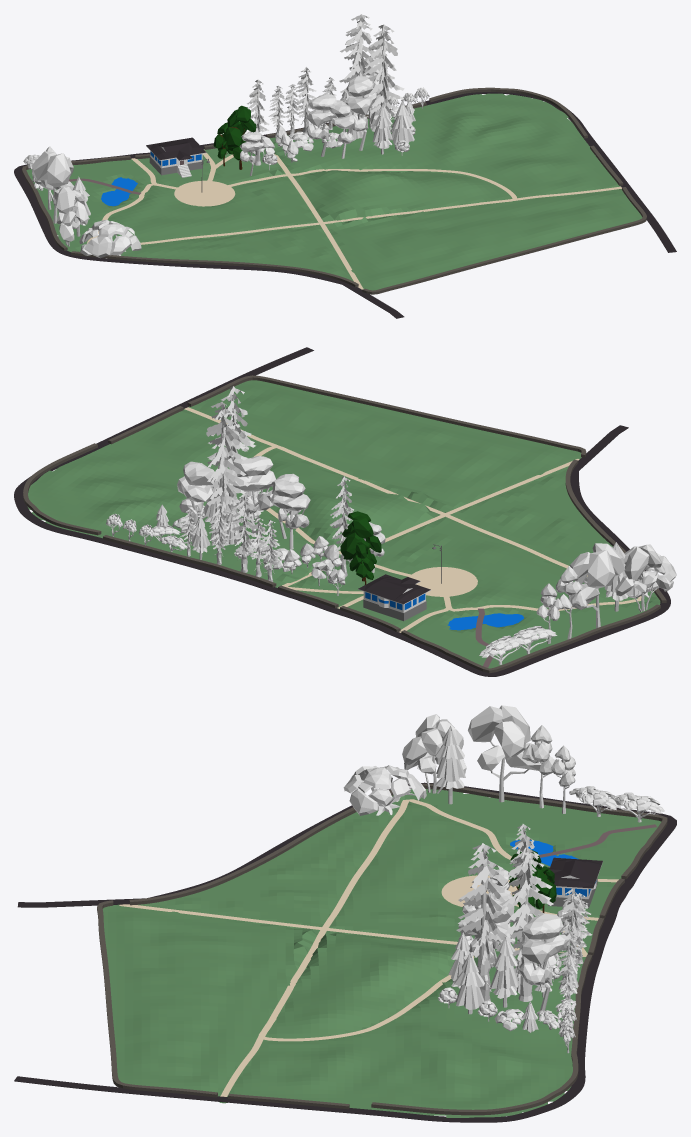
Rendered from camping.fbx.
The picture shows the model from 3 angles, top to bottom: view 1: azimuth 30°, elevation 25°; view 2: azimuth 150°, elevation 25°; view 3: azimuth 270°, elevation 25°; orthographic projection. The views are drawn at different scales.
Parts seen in each view (by area): view 1: ground, sidewpath, 01path, Tree Type0 03 Model.006, cafe-playa, Tree Type0 01 Model.003, 07wall, Tree Type4 03 Model.001, Tree Type5 04 Model, Tree Type0 03 Model.007, 06wall, plaza (+13 smaller); view 2: ground, sidewpath, Tree Type0 03 Model.007, 07wall, cafe-playa, Tree Type4 03 Model.001, 01path, Tree Type5 04 Model, Tree Type3 05 Model.002, 05wall, Tree Type3 05 Model.004, plaza (+19 smaller); view 3: ground, sidewpath, Tree Type0 03 Model.006, Tree Type4 03 Model.001, 01path, Tree Type0 01 Model.003, Tree Type0 03 Model.007, Tree Type3 05 Model.004, Tree Type5 04 Model, cafe-playa, 07wall, 05wall (+14 smaller).
Boxes of the visible parts, x1,y1,x2,y2 form: ground: (26,93,642,290); sidewpath: (14,92,676,318); 01path: (87,169,517,244); Tree Type0 03 Model.006: (363,24,404,148); cafe-playa: (146,137,206,177); Tree Type0 01 Model.003: (79,219,141,258); 07wall: (362,187,646,294); Tree Type4 03 Model.001: (32,151,74,223); Tree Type5 04 Model: (53,186,88,246); Tree Type0 03 Model.007: (339,14,378,138); 06wall: (71,251,358,287); plaza: (174,180,235,206); ground: (27,380,660,668); sidewpath: (14,347,670,676); Tree Type0 03 Model.007: (206,401,250,545); 07wall: (187,375,586,457); cafe-playa: (358,574,430,621); Tree Type4 03 Model.001: (570,543,625,628); 01path: (254,445,641,611); Tree Type5 04 Model: (615,544,670,611); Tree Type3 05 Model.002: (228,456,275,536); 05wall: (401,604,660,673); Tree Type3 05 Model.004: (177,461,214,538); plaza: (409,567,477,596); ground: (103,789,661,1117); sidewpath: (14,782,676,1122); Tree Type0 03 Model.006: (456,843,513,1006); Tree Type4 03 Model.001: (468,705,540,802); 01path: (258,799,511,1041); Tree Type0 01 Model.003: (343,765,426,815); Tree Type0 03 Model.007: (500,839,553,1001); Tree Type3 05 Model.004: (518,913,569,1010); Tree Type5 04 Model: (402,714,466,793); cafe-playa: (548,857,602,908); 07wall: (97,900,217,1097); 05wall: (421,783,667,879).
Bounding box in the file's own units: 23505 × 5565 × 19394.
